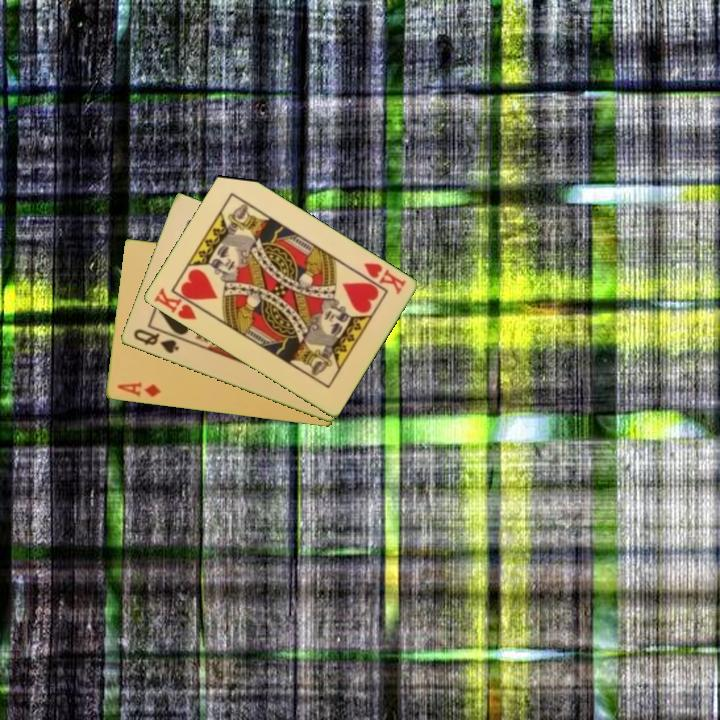Ad: (113, 379, 163, 400)
Kh: (150, 284, 206, 323), (360, 259, 409, 298)
Qs: (130, 325, 182, 357)
